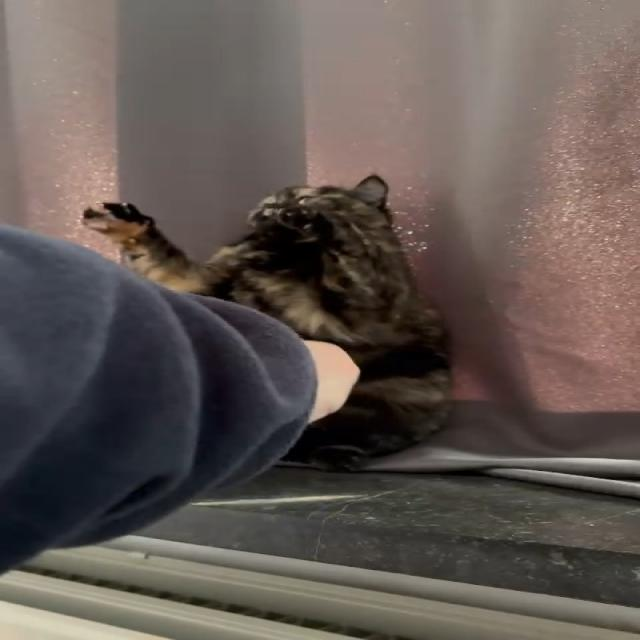authorized: (80, 173, 455, 472)
